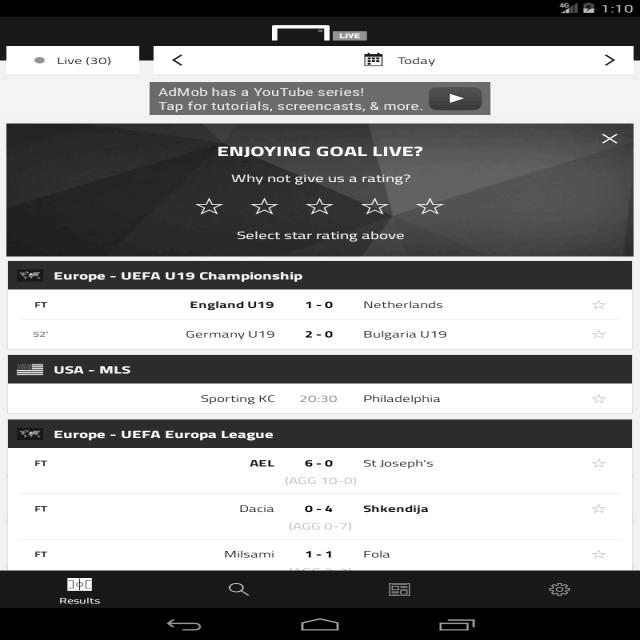ImageButton: (540, 578, 587, 602), (220, 576, 258, 599), (382, 578, 422, 598), (595, 131, 625, 147)
ImageView: (13, 360, 48, 380), (356, 49, 386, 67)
RatingBar: (184, 195, 461, 221)
TextView: (47, 424, 278, 446), (210, 140, 436, 160), (52, 269, 310, 283), (226, 172, 420, 188), (229, 227, 416, 243), (351, 387, 456, 406), (181, 293, 286, 312), (353, 497, 442, 519), (354, 325, 456, 341), (360, 297, 447, 313), (230, 498, 283, 520), (214, 545, 284, 561), (196, 390, 269, 404), (389, 51, 442, 67)
